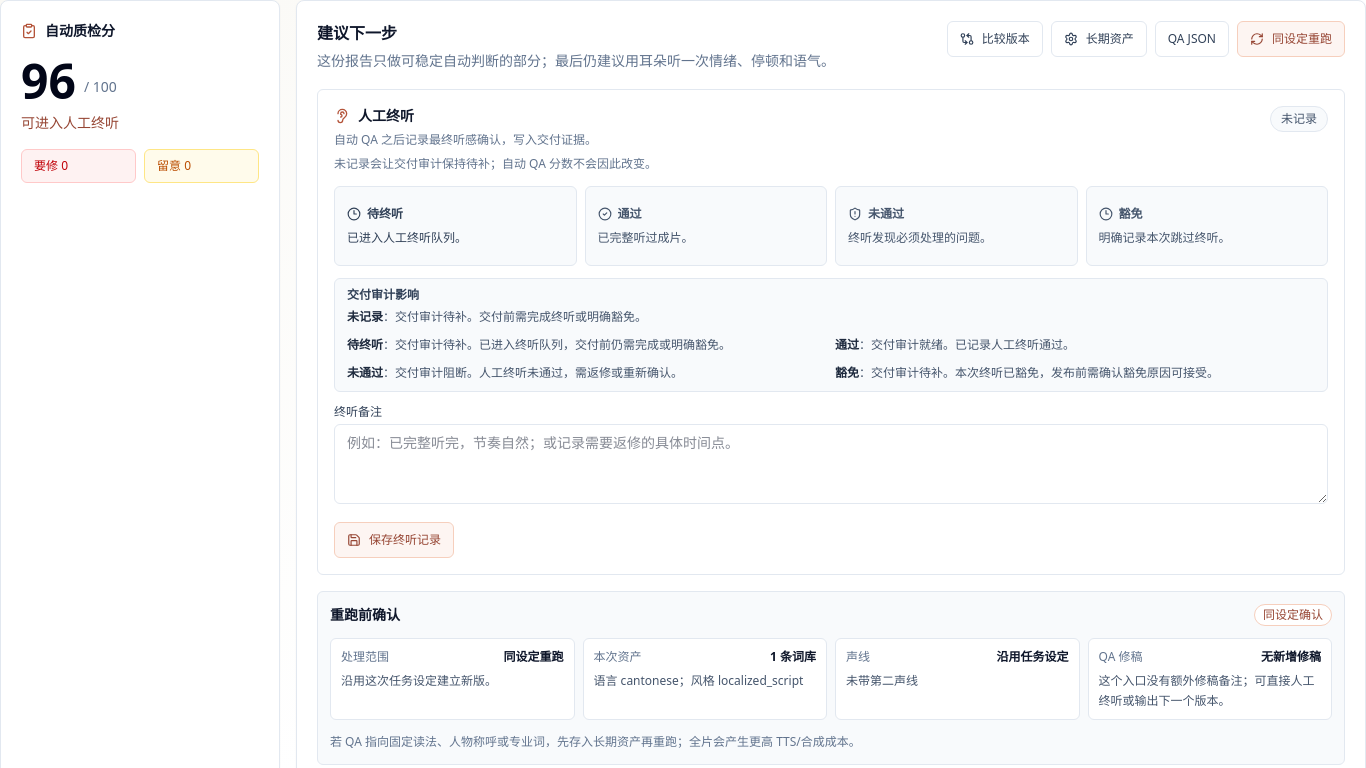
JobQaReport full-run CTA › saves a manual final listen failure through the dedicated job evidence API
Click the button "未通过 终听发现必须处理的问题。" at (956, 226), box [835, 186, 1078, 266]
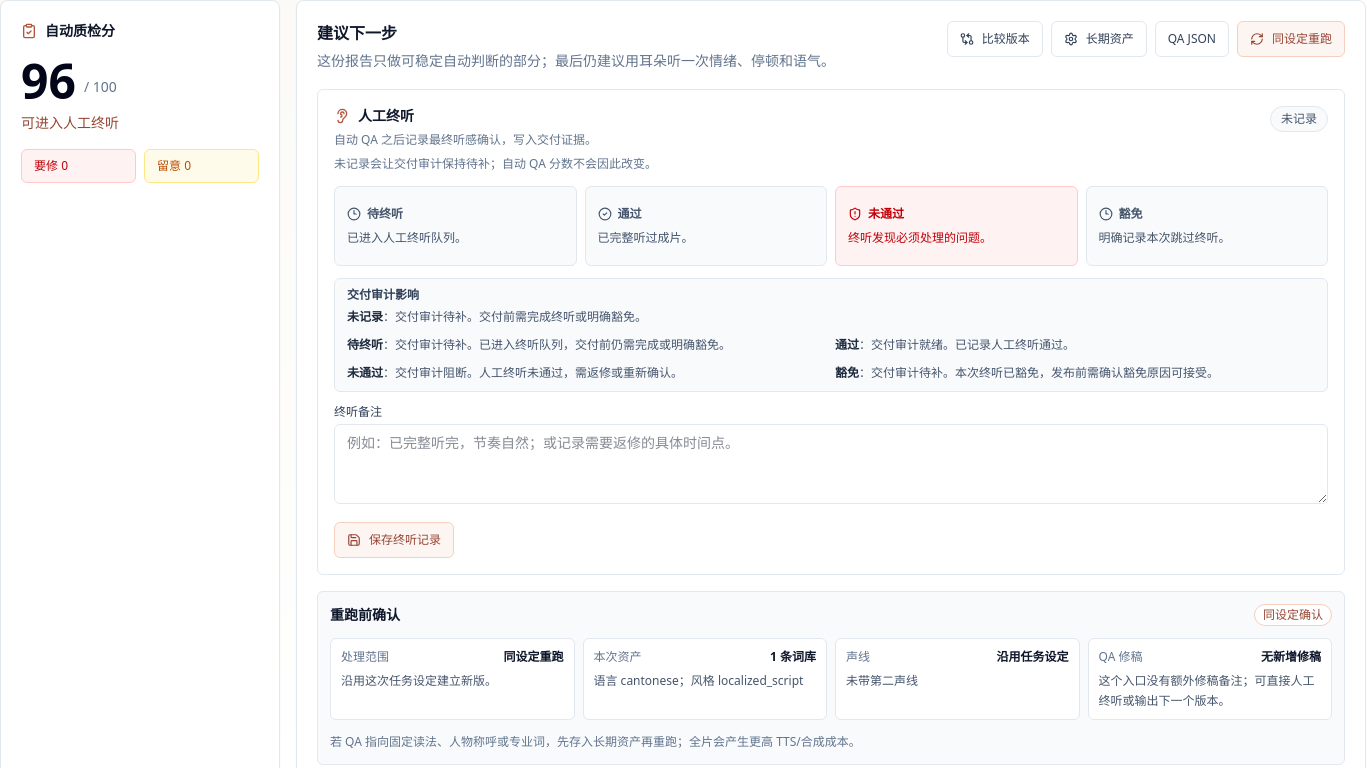
Type "02:13 口型不自然。" into the text box labelled "终听备注" at (831, 464), box [334, 424, 1328, 504]
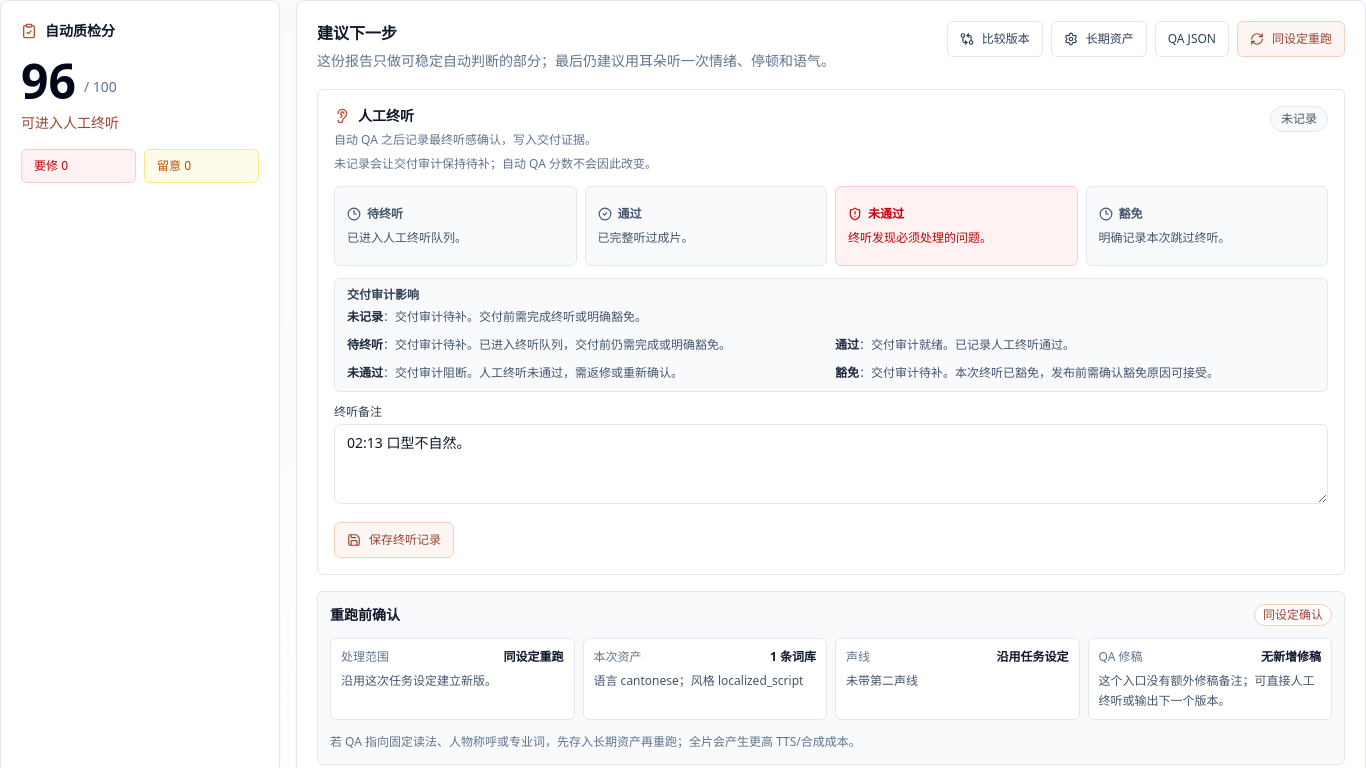
Click the button "保存终听记录" at (394, 540), box [334, 522, 454, 558]
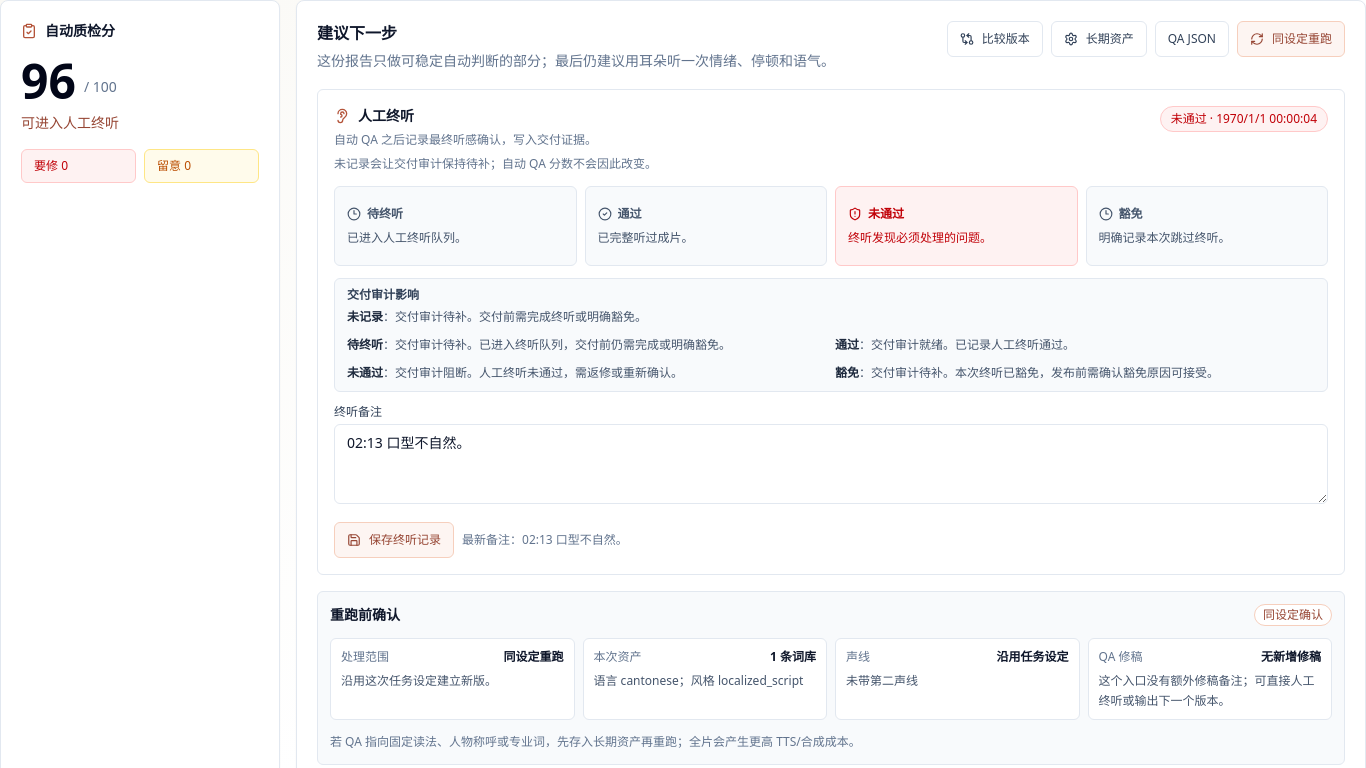
Check: the link "同设定重跑" is shown, box [1237, 21, 1345, 57]
Check: the text "未通过 · 1970/1/1 00:00:04" is shown, box [1160, 106, 1328, 132]
Check: the text "最新备注：02:13 口型不自然。" is shown, box [462, 532, 628, 548]
